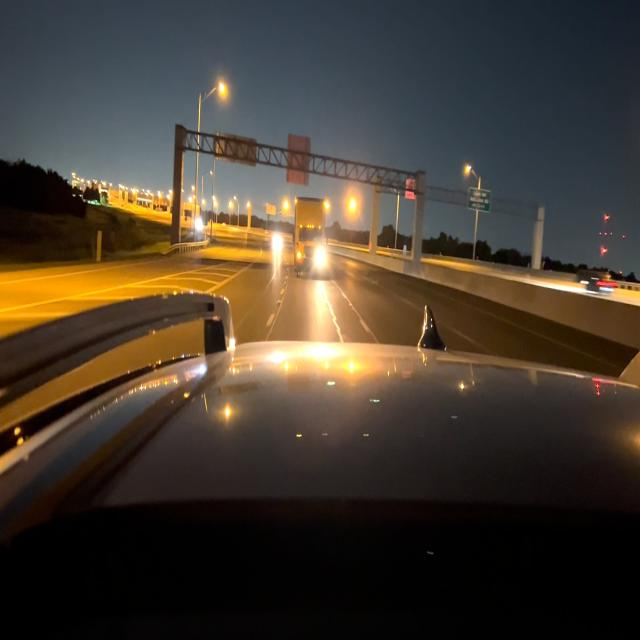back-of-sign: (215, 132, 257, 168), (289, 135, 309, 182)
